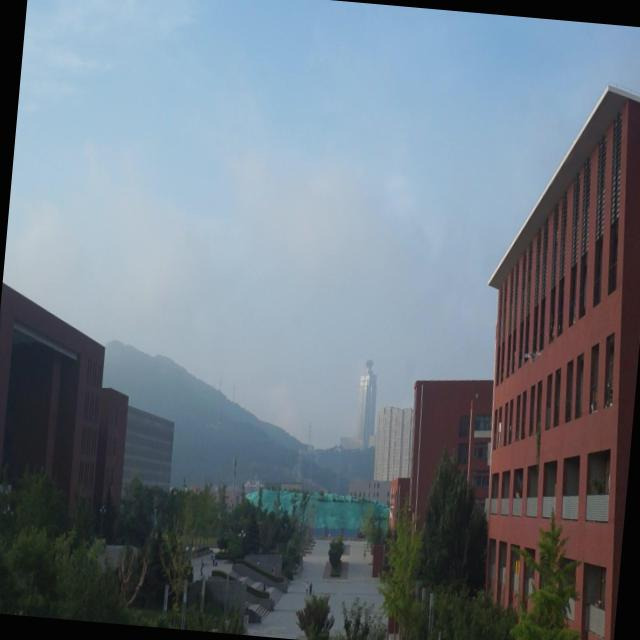drone: (518, 345, 540, 368)
